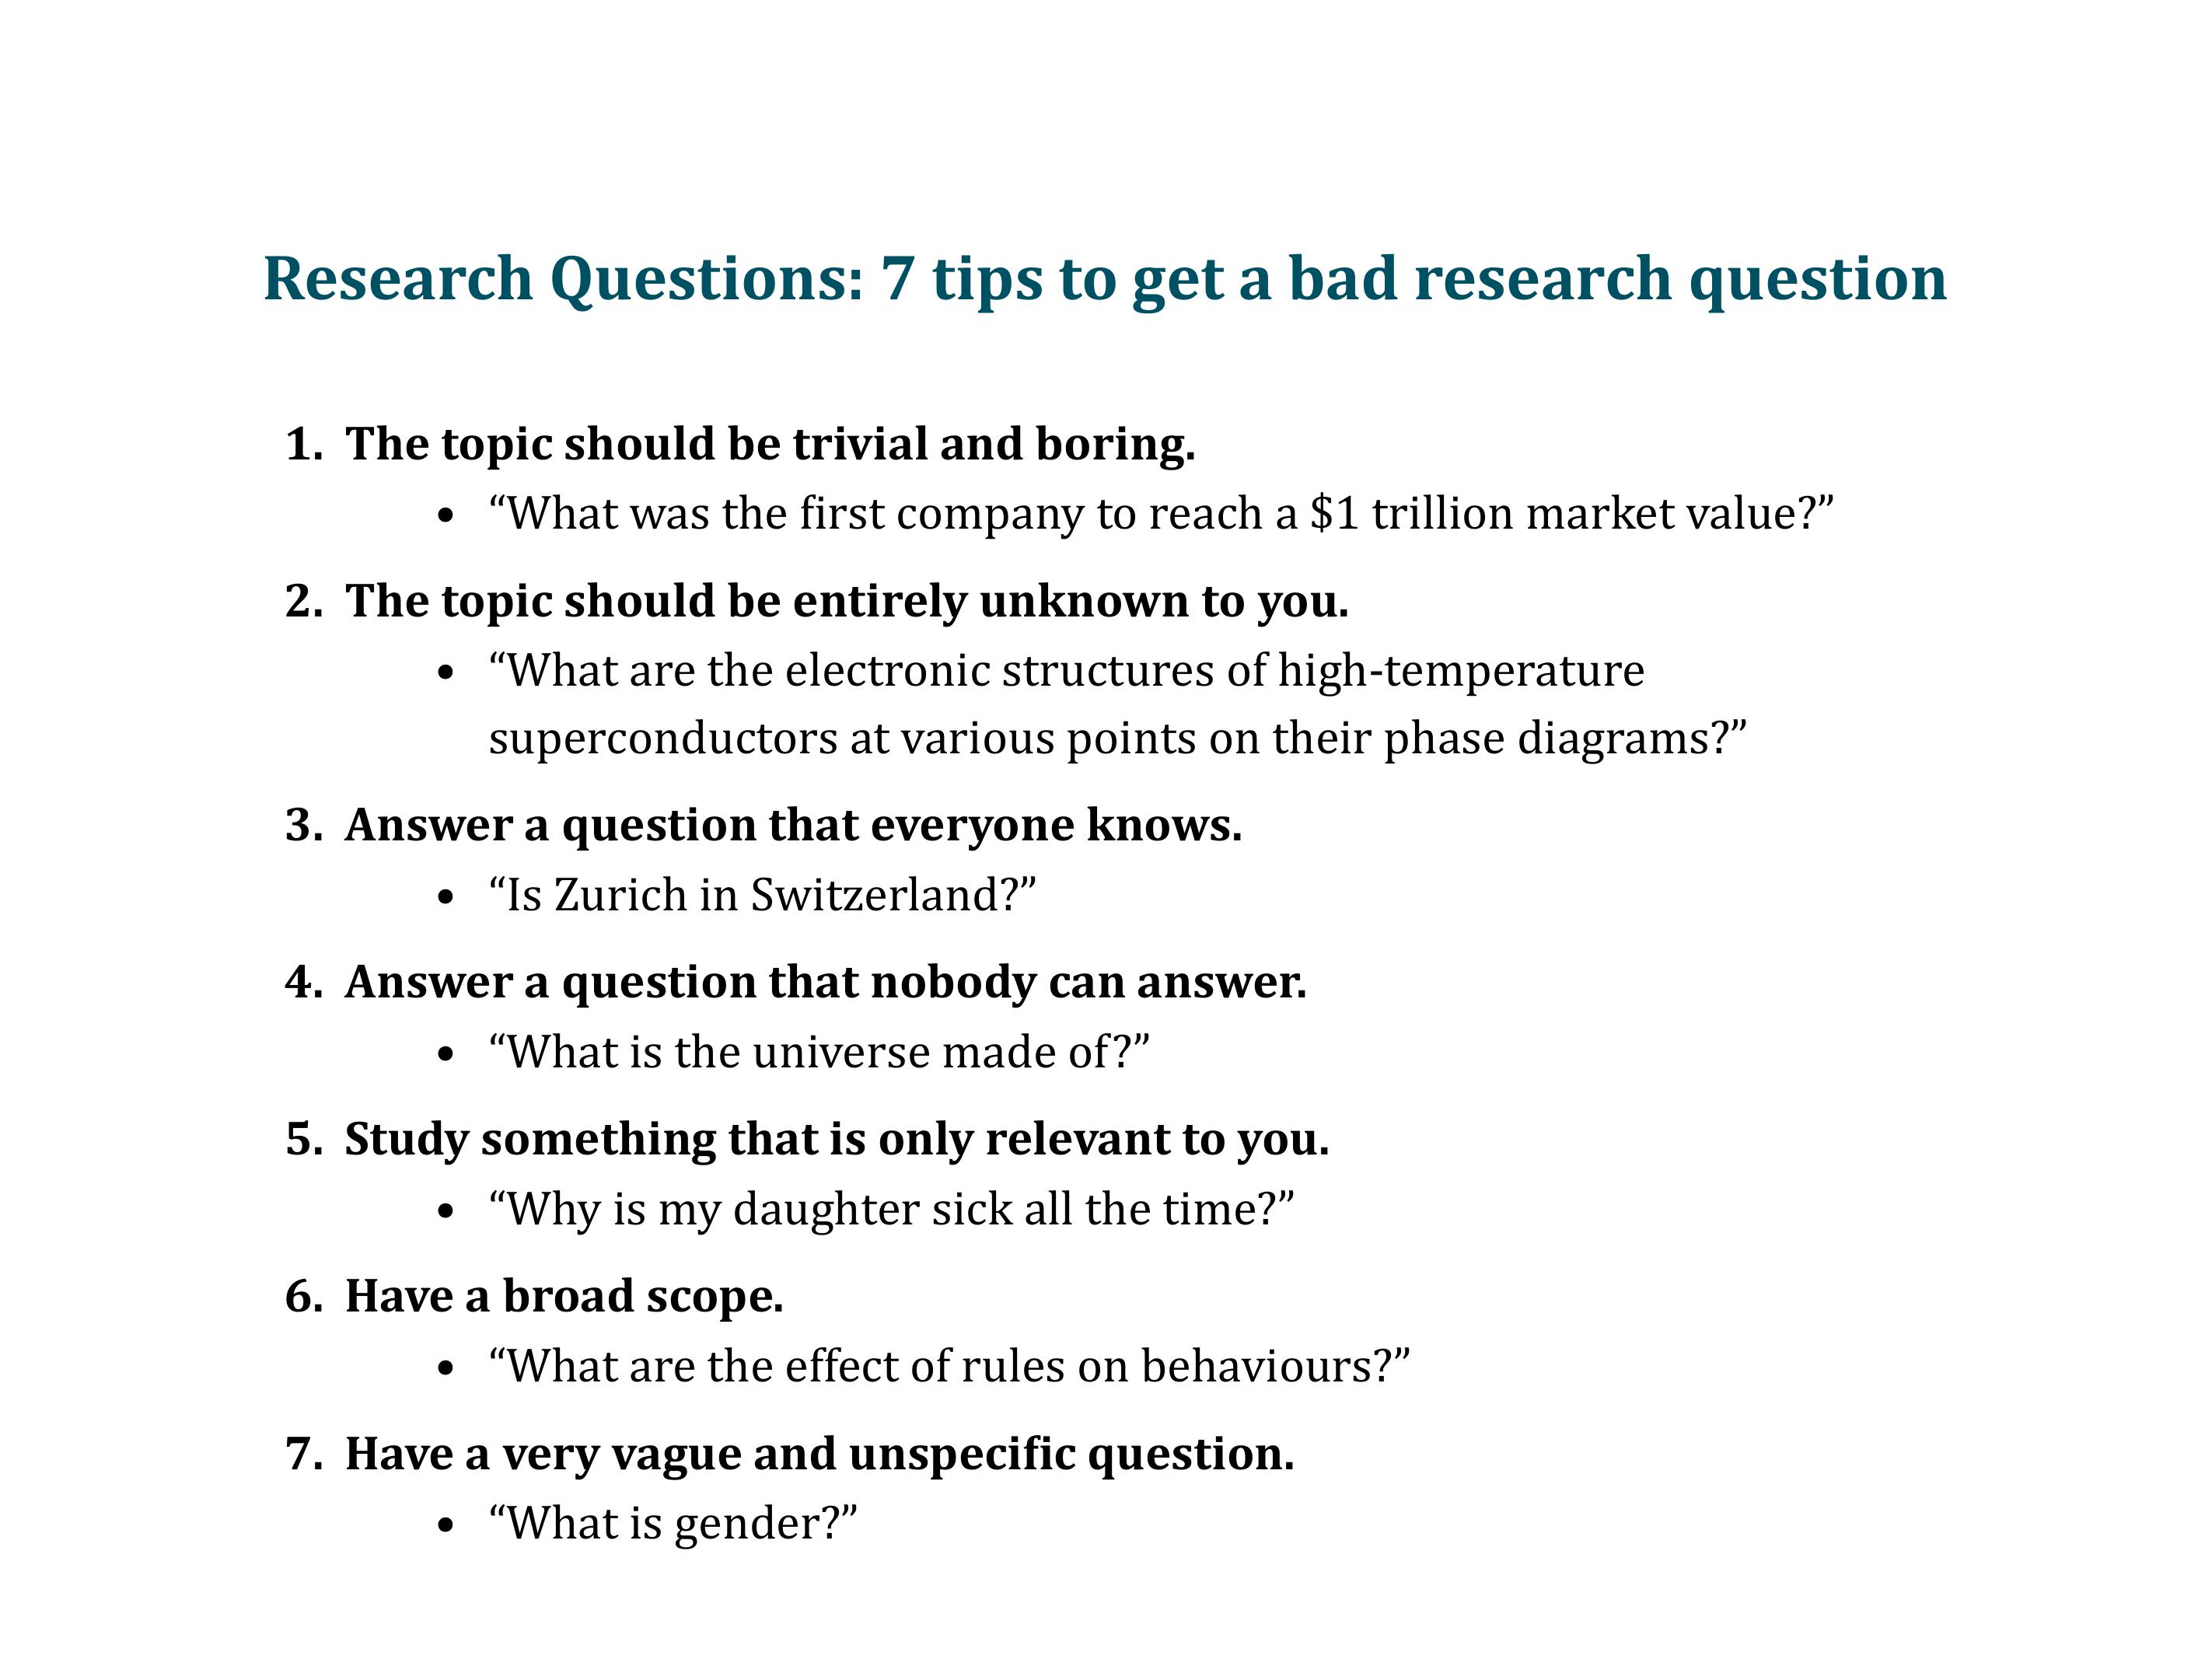Title: (260, 230, 1945, 331)
